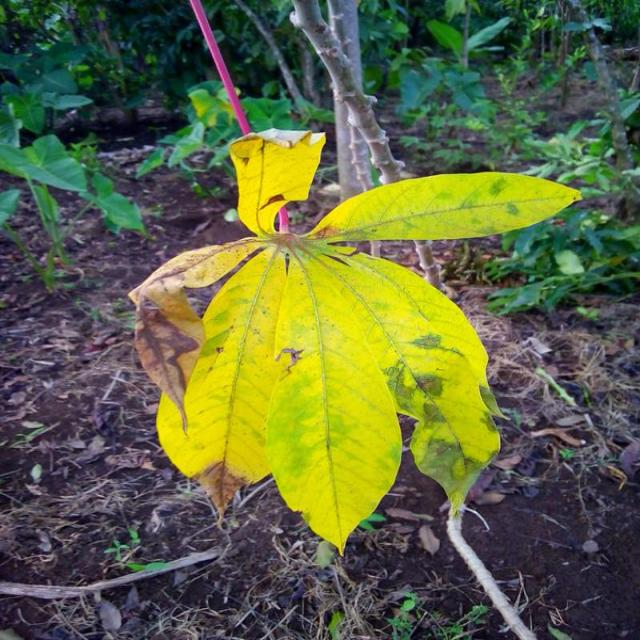cassava leaf: (128, 126, 583, 557)
